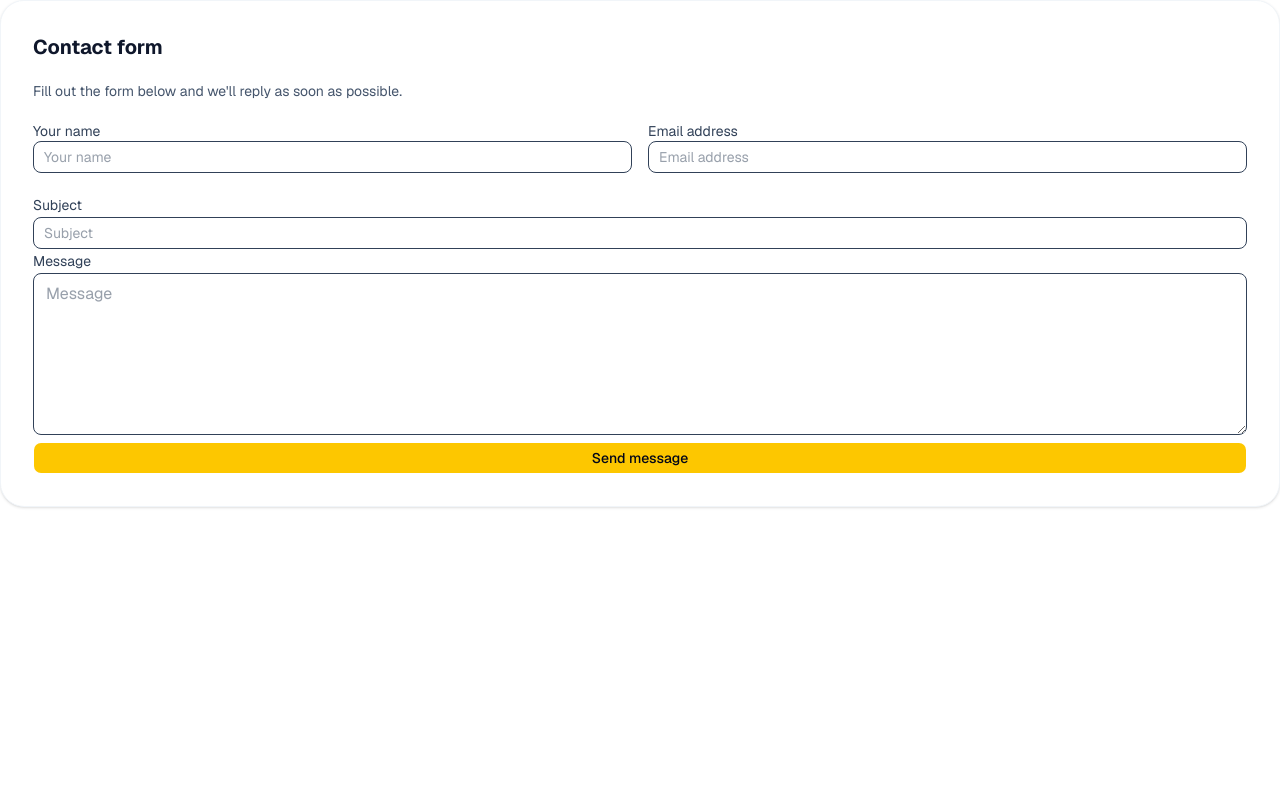
ContactForm › shows the error message when the API returns a non-ok response
Type "Alice Tremblay" into the field with placeholder "Your name" at (332, 157), box [33,141,632,173]
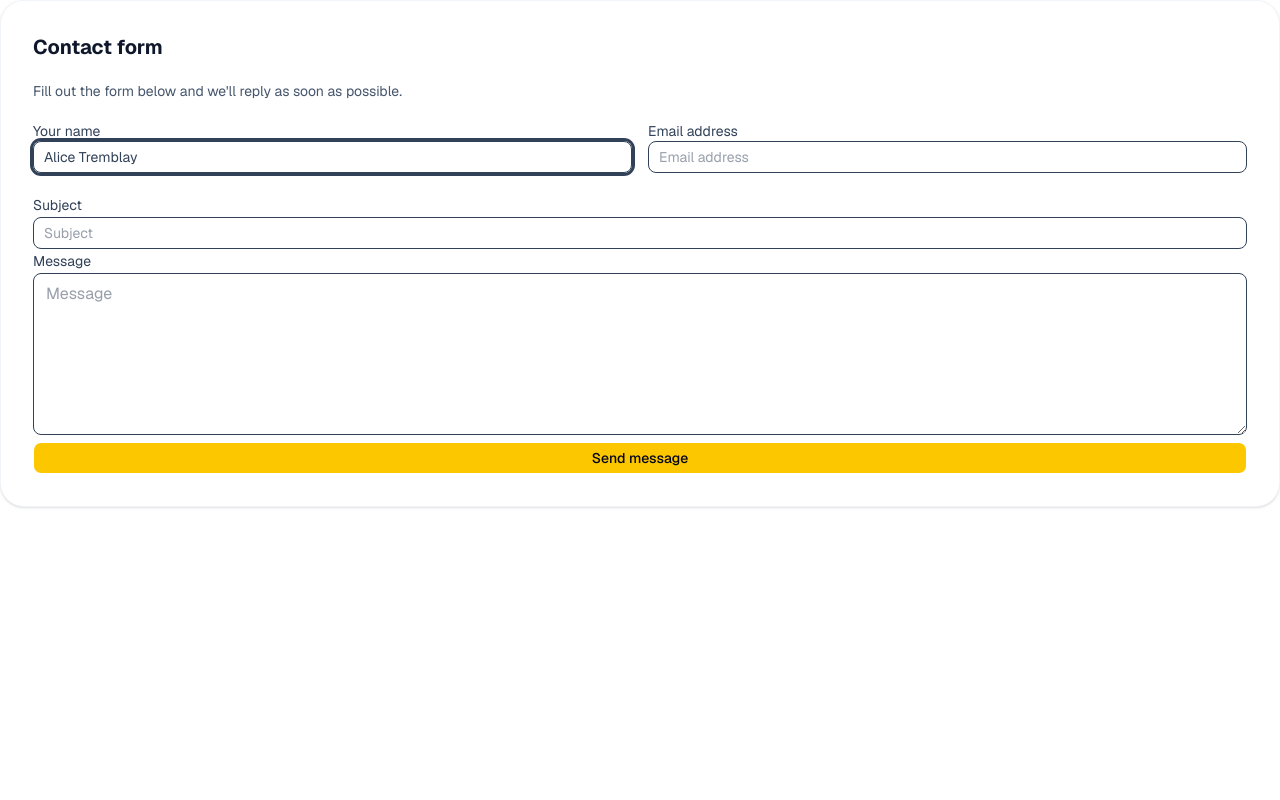
Type "alice@example.com" into the field with placeholder "Email address" at (948, 157), box [648,141,1247,173]
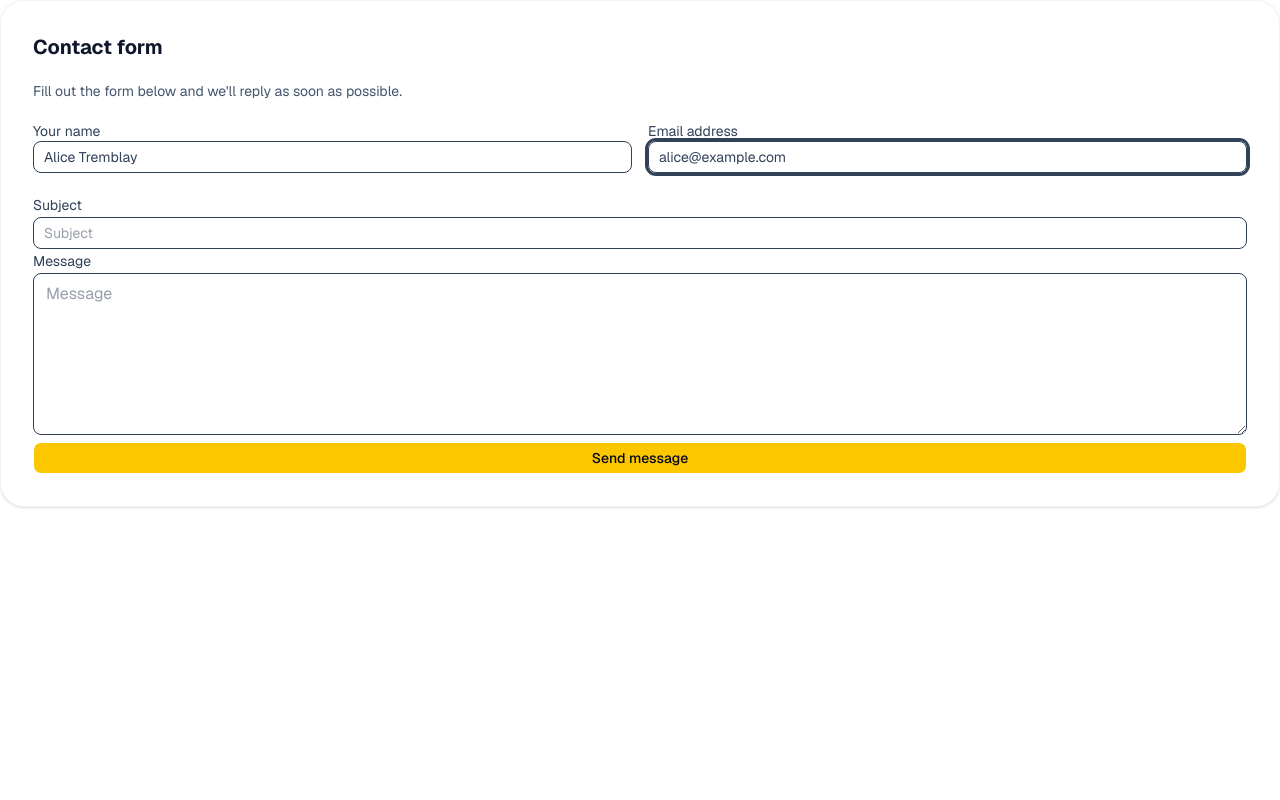
Type "Website Quote" into the field with placeholder "Subject" at (640, 233), box [33,217,1247,249]
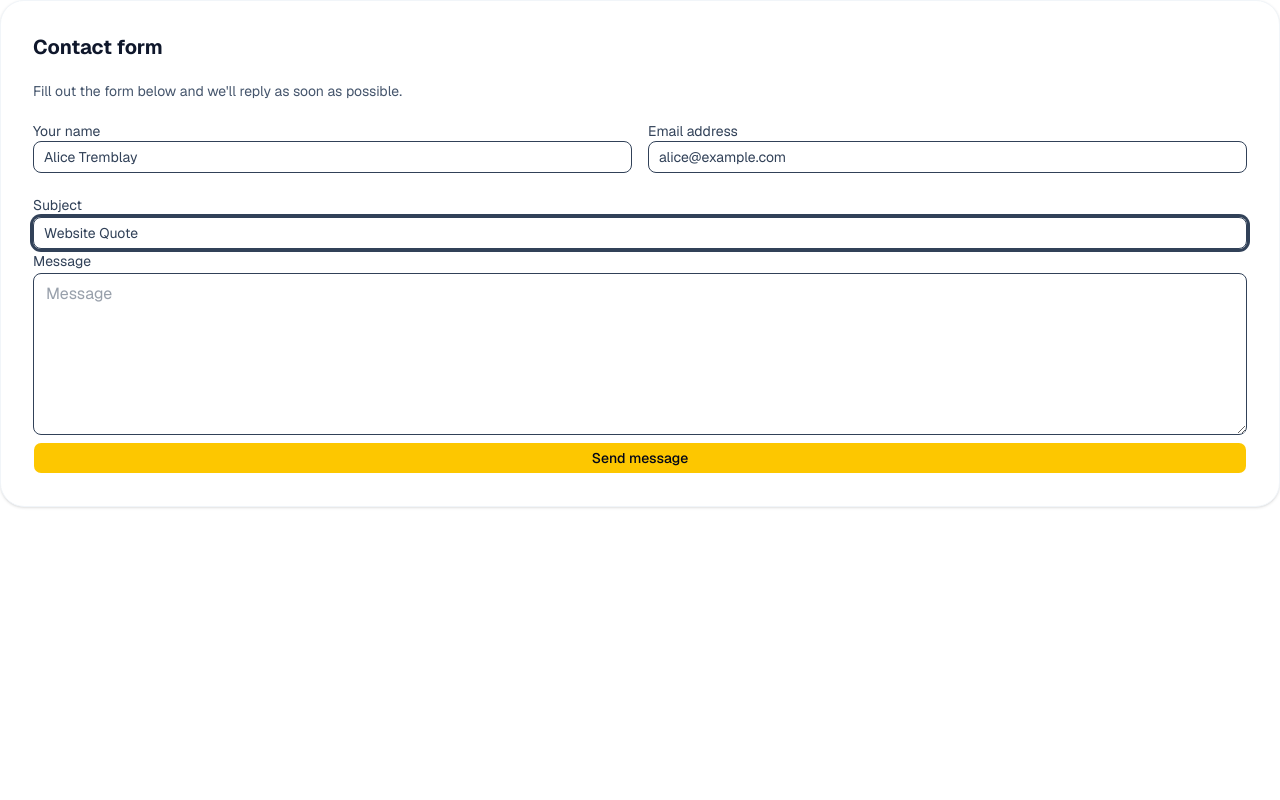
Type "I would like a quote." into the text box with placeholder "Message" at (640, 354), box [33,273,1247,435]
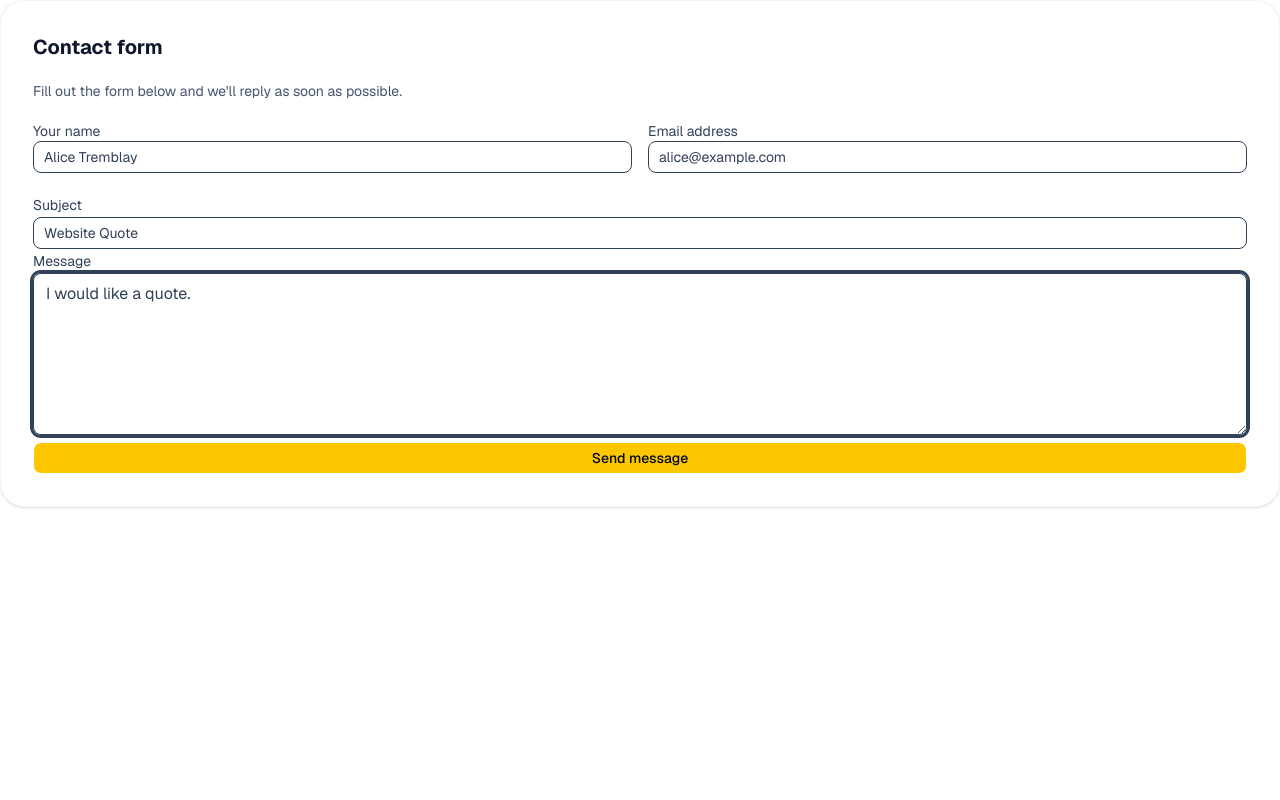
Click the button "Send message" at (640, 458), box [33,442,1247,474]
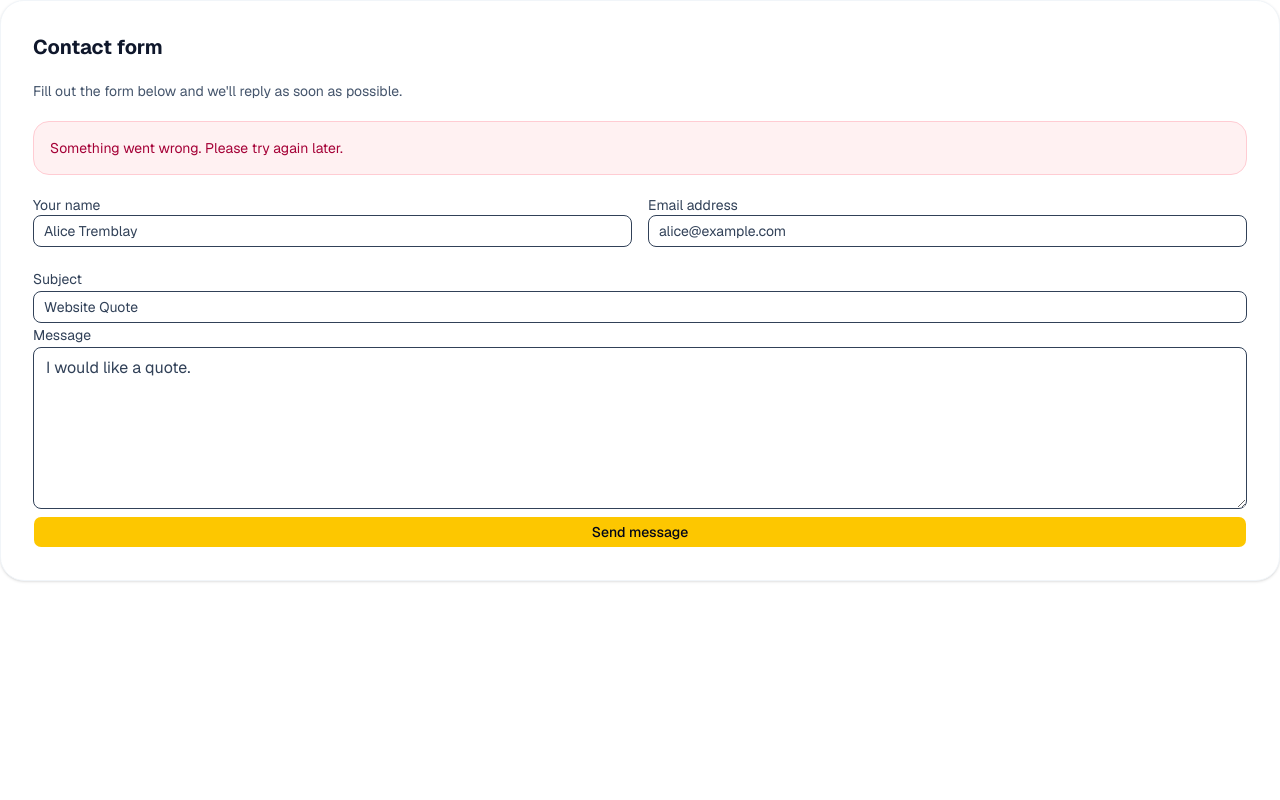
Now the text "Something went wrong. Please try again later." is shown, box [33,121,1247,175]
